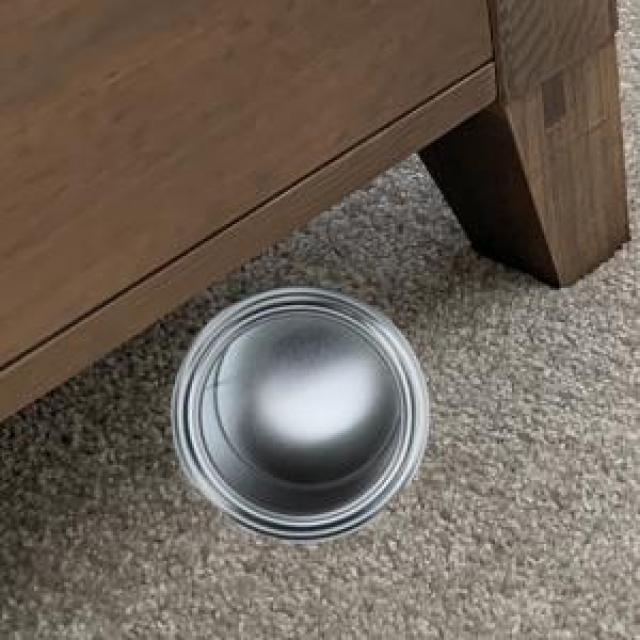Can: (170, 283, 426, 541)
